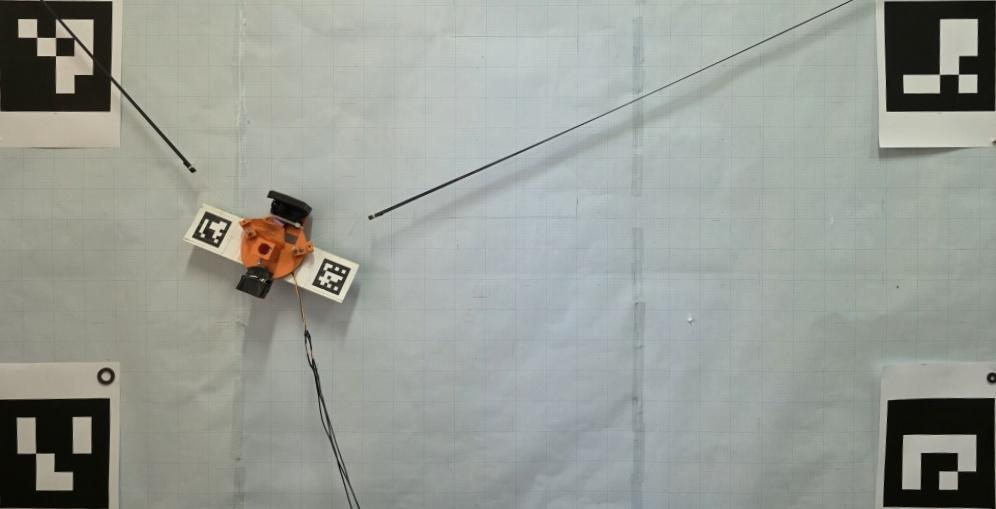robot: (235, 190, 315, 301)
